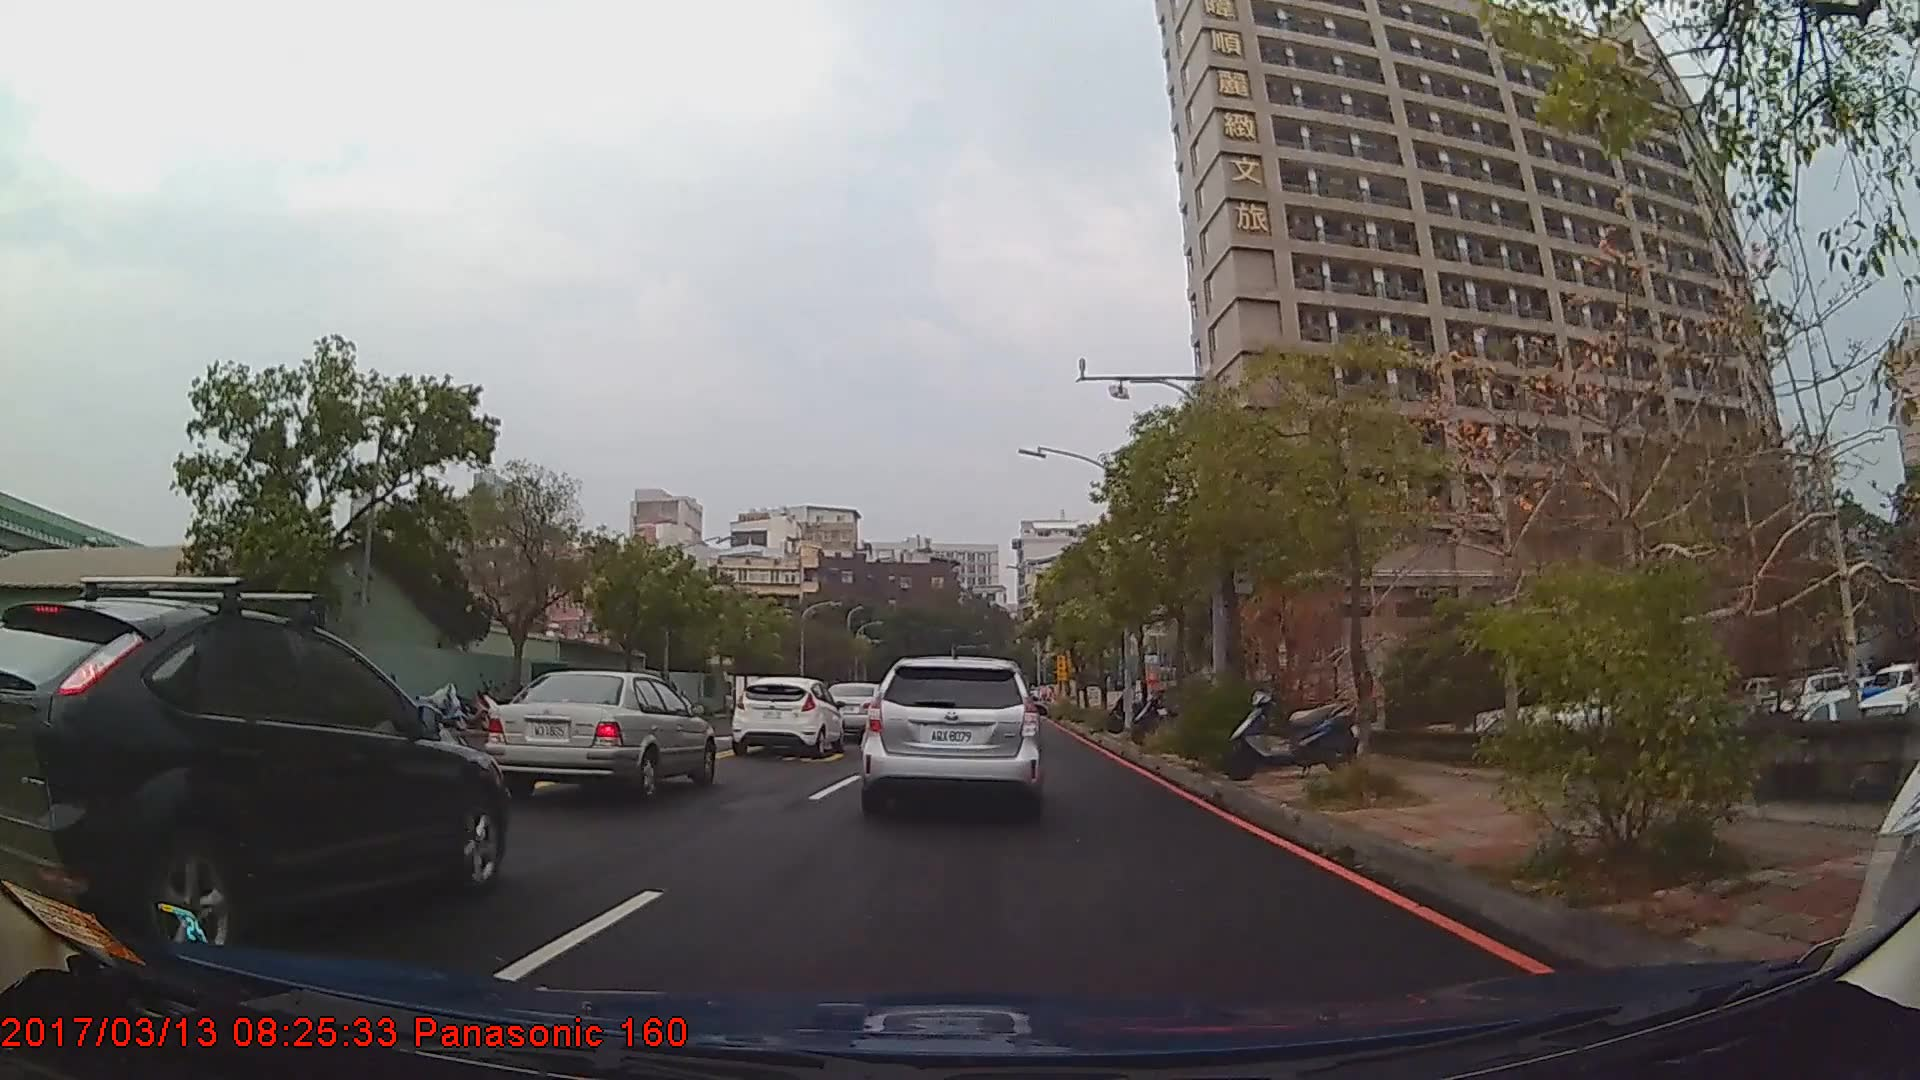vehicle: (0, 596, 506, 957), (483, 669, 716, 803), (858, 657, 1042, 820), (731, 676, 845, 757)
